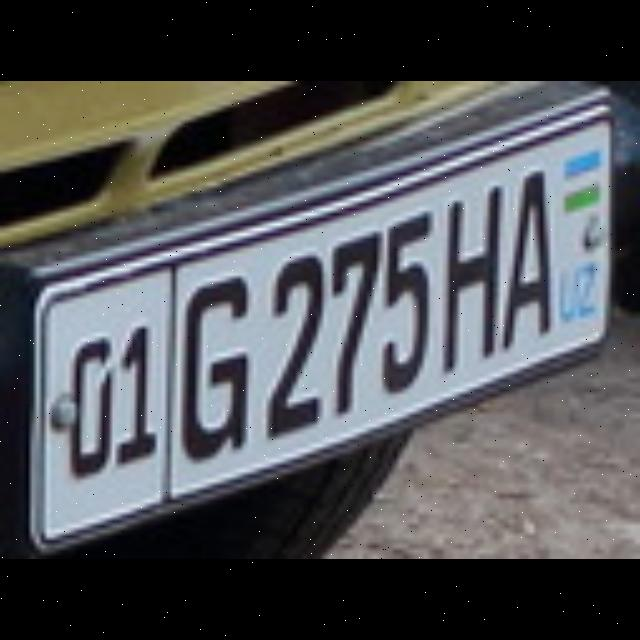0: (66, 333, 106, 469)
1: (116, 322, 152, 453)
2: (262, 252, 318, 433)
5: (383, 212, 423, 388)
7: (328, 228, 372, 408)
A: (500, 166, 544, 338)
G: (176, 273, 242, 449)
H: (438, 186, 494, 358)
